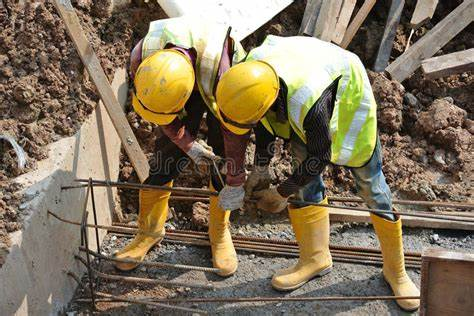safetyhat: (223, 33, 425, 301), (118, 13, 225, 272)
